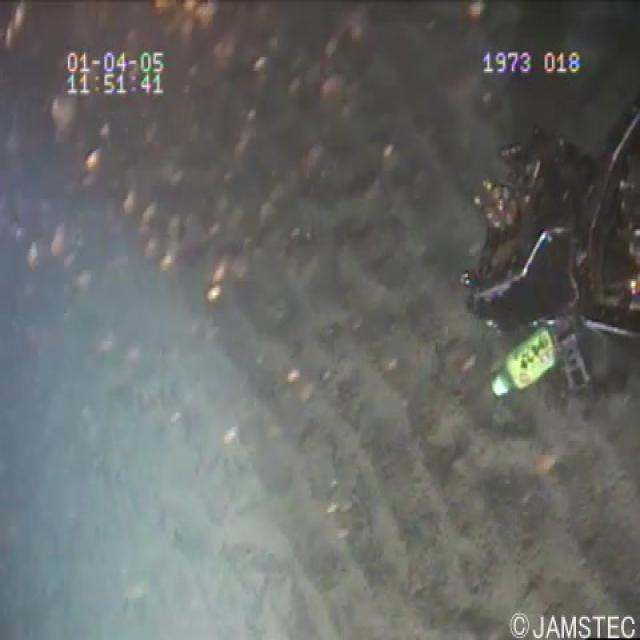plastic: (488, 320, 563, 407)
